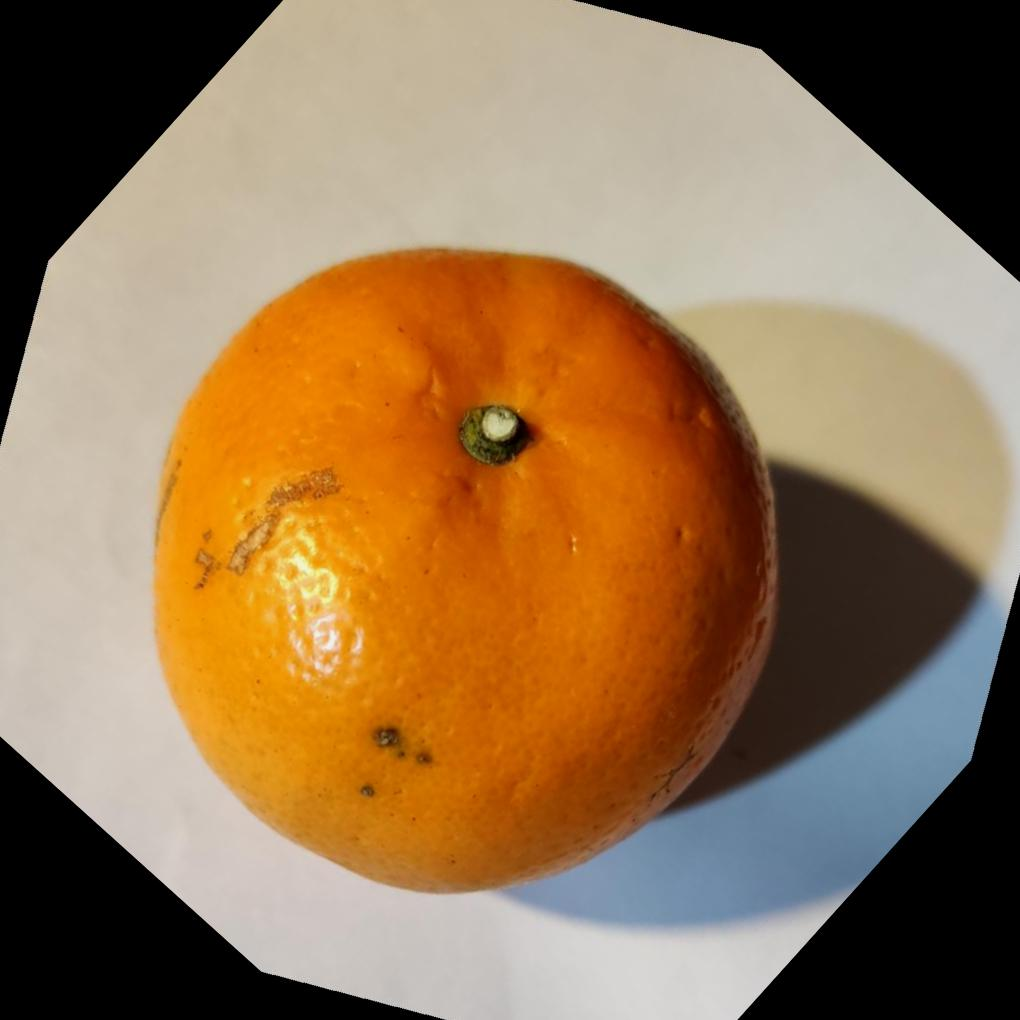FreshGuava: (147, 246, 778, 899)
